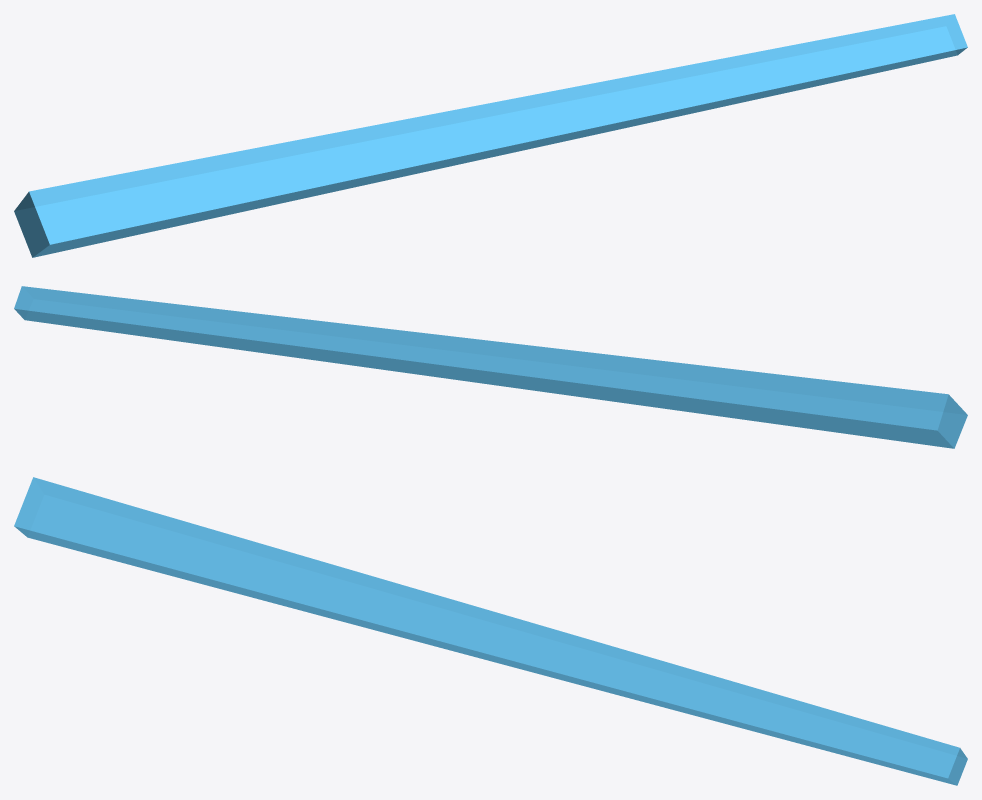
The model's file is Event_421364160_HErechit_43.fbx.
3 views of the same model, one above another, from view 1: azimuth 30°, elevation 25°; view 2: azimuth 150°, elevation 25°; view 3: azimuth 330°, elevation 25° (orthographic). The views are drawn at different scales.
Parts seen in each view (by area): view 1: Model; view 2: Model; view 3: Model.
Part boxes in pixels (<box>): Model: <box>14,14,967,257</box>; Model: <box>14,286,967,448</box>; Model: <box>14,477,967,785</box>.
Bounding box in the file's own units: 6.36 × 0.8012 × 0.8012.
